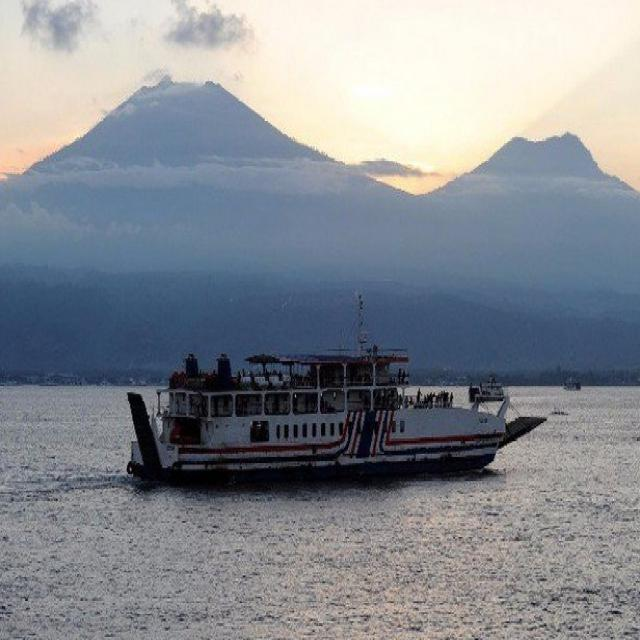passenger ship: (121, 340, 548, 511)
